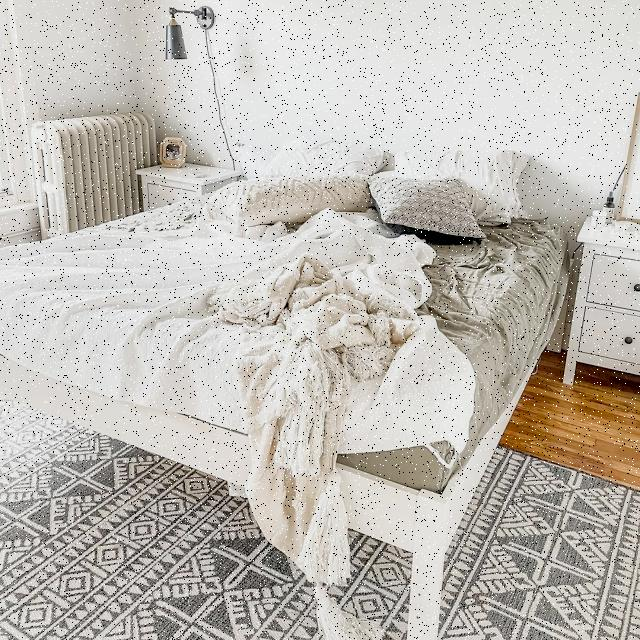bed: (12, 138, 562, 575)
